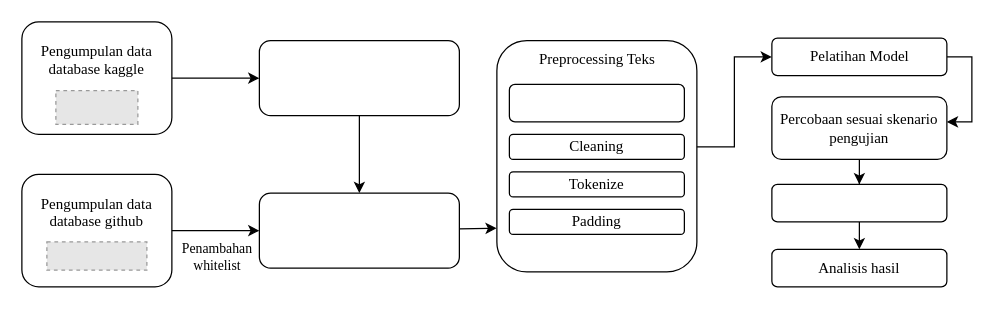
This 1004x309 diagram has some shape labels left out. Grey dashed boxes stand in for pictures. The shapes that lost their labels are listed below. From the top down, each one's centre as x and y in pixels, then its label:
At point (358, 77): "Balancing".
At point (596, 102): "Memecah URL sesuai struktur".
At point (859, 202): "K-Folding".
At point (358, 230): "Label Encoding".
